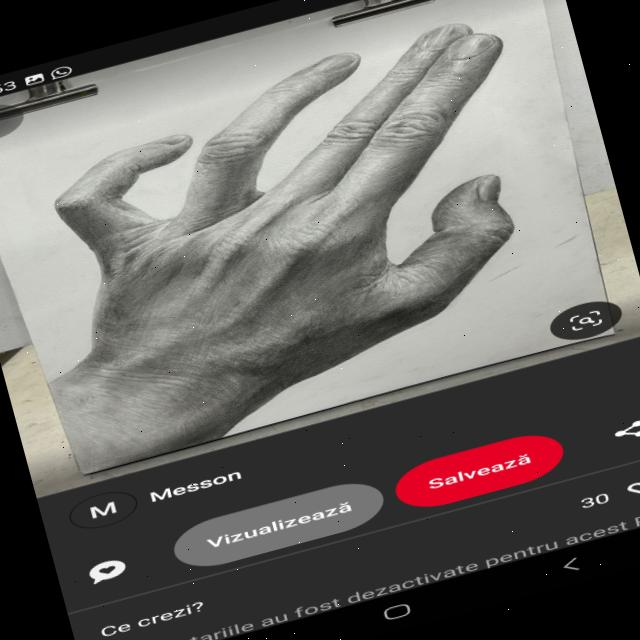hands: (11, 0, 585, 465)
